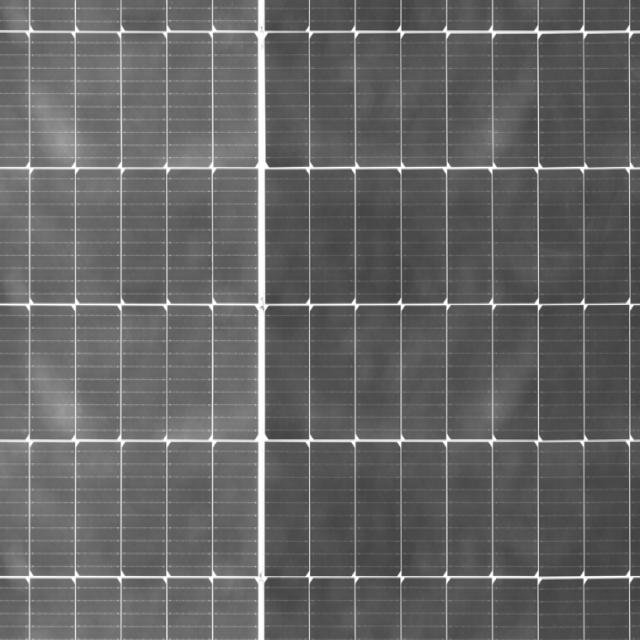CORRECT: (362, 0, 640, 640), (0, 0, 273, 640), (226, 0, 473, 640)
